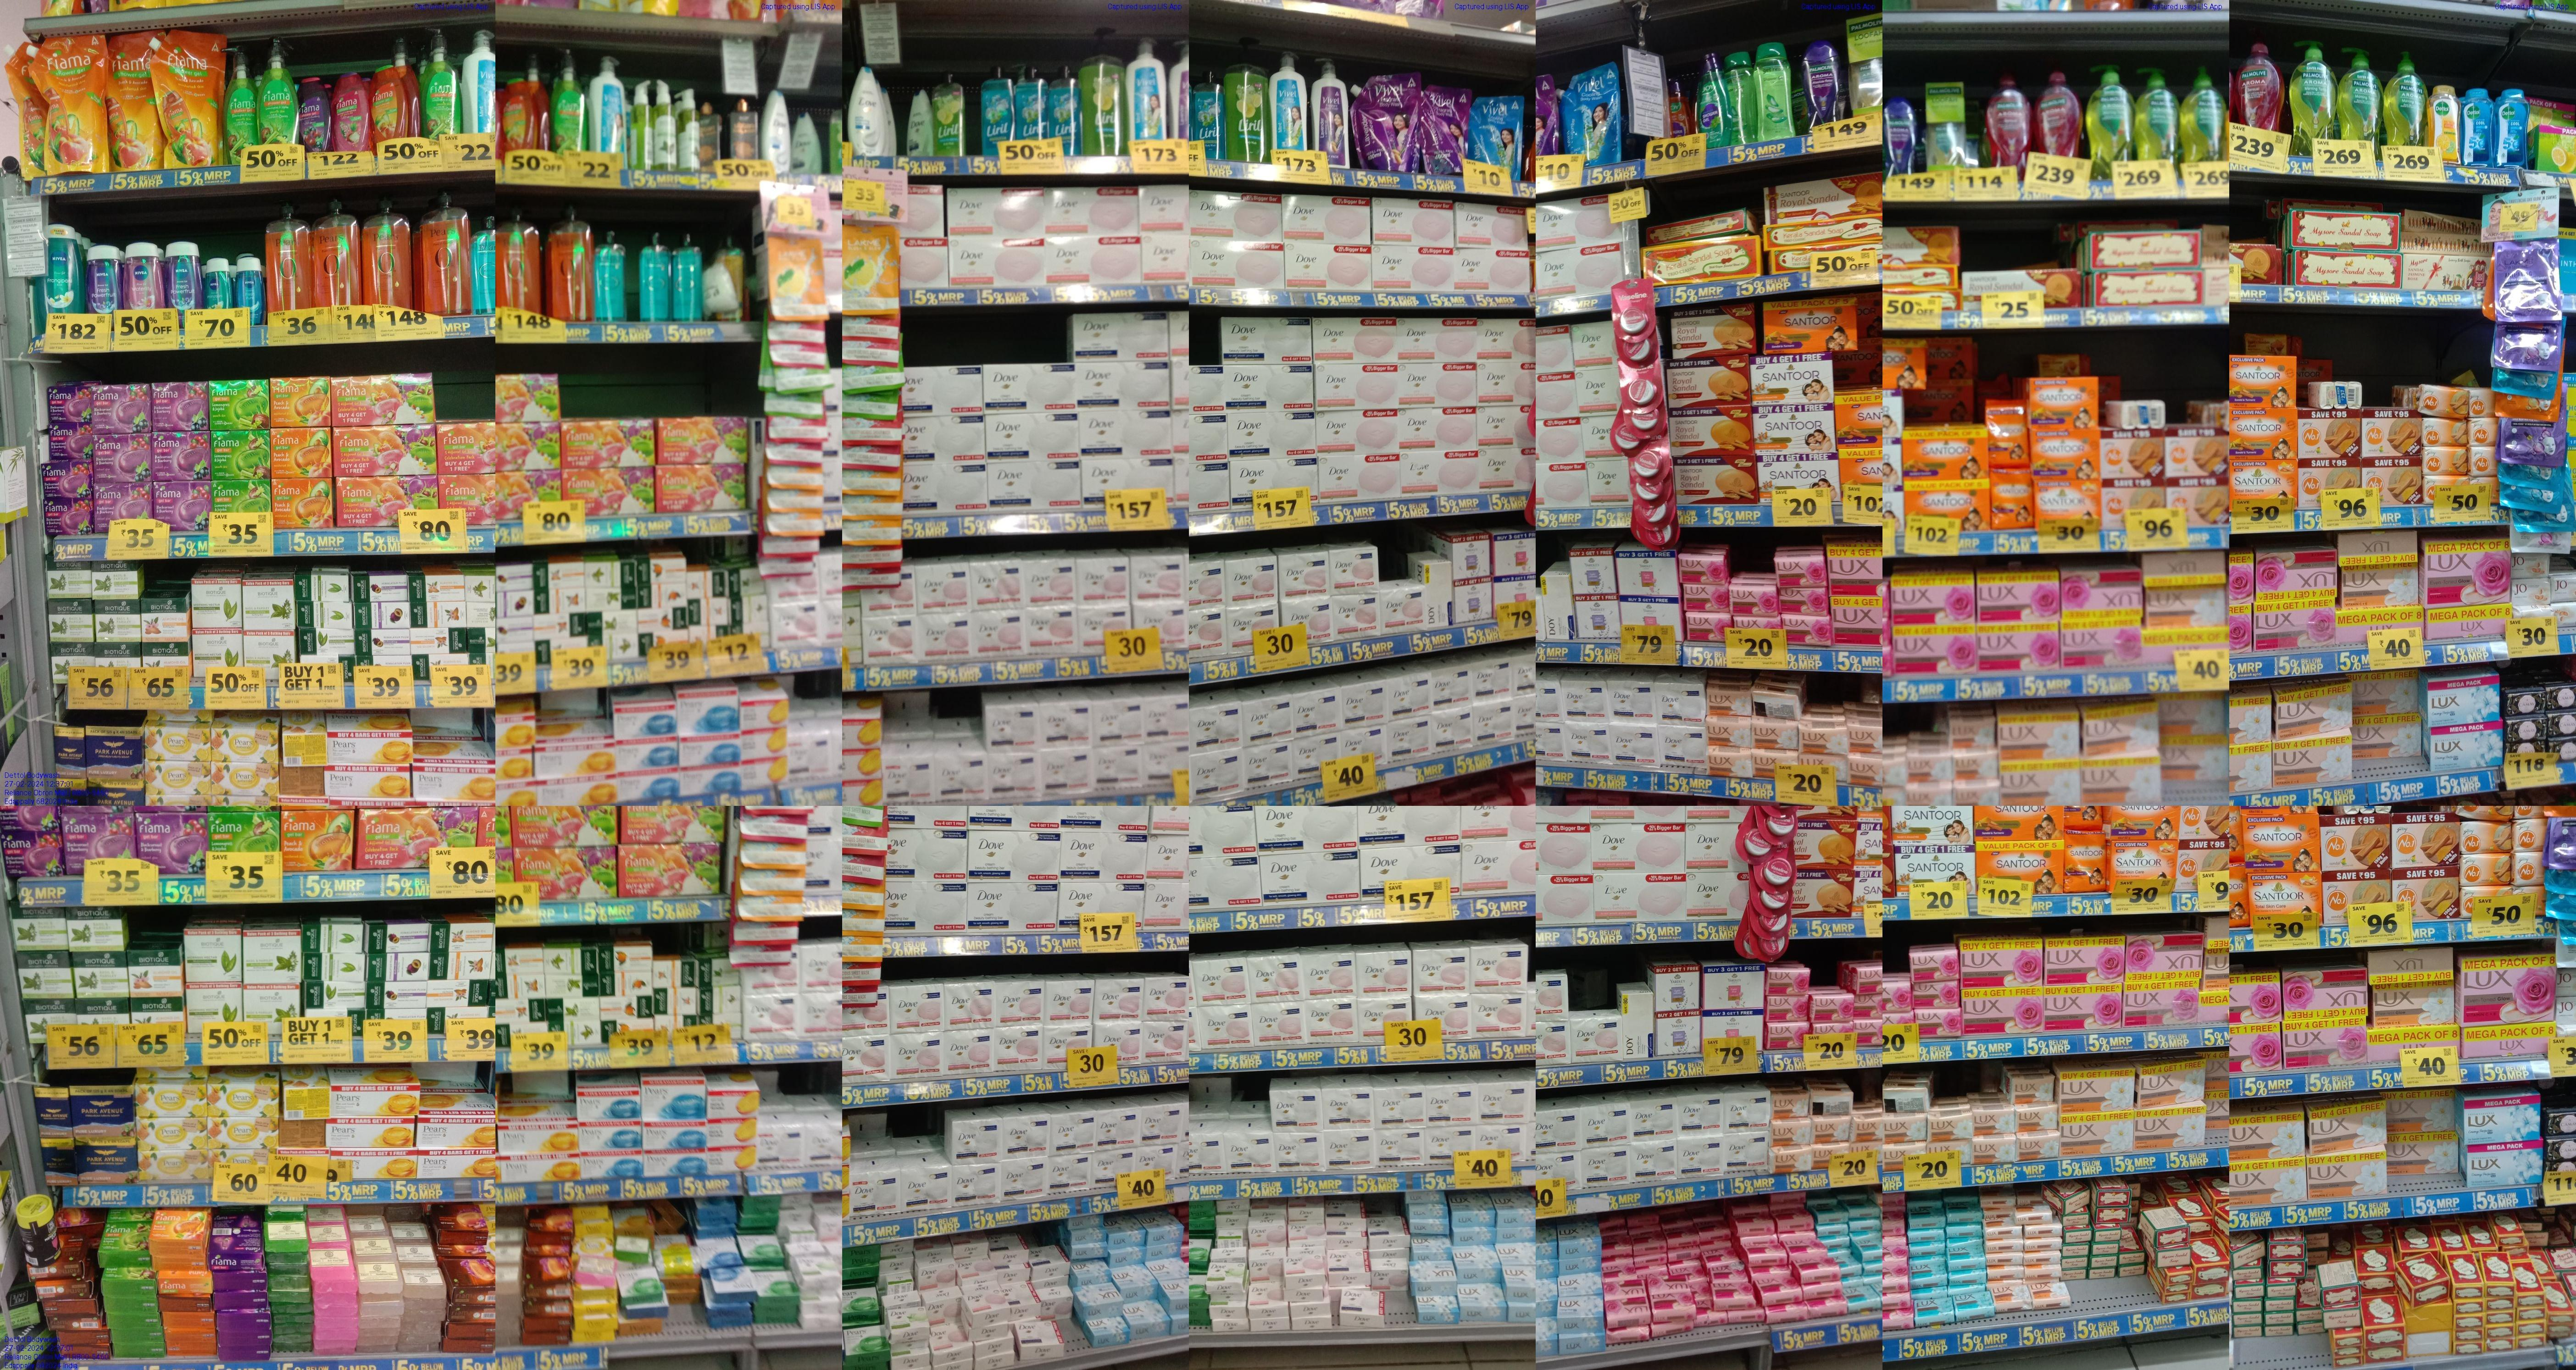Dettol_Bodywash_Cool: (2494, 87, 2530, 169), (2464, 85, 2493, 169)
Dettol_Bodywash_Refresh: (2429, 82, 2458, 164)
Dove_Deep_Moisture_Body_Wash_250ML: (792, 109, 823, 174), (905, 90, 934, 157)
Dove_Gentle_Exfoliating_Body_Wash_250ML: (847, 66, 886, 155), (765, 89, 789, 172)
Fiama_Shower_Gel_Patchouli_and_Macadamia_250ML: (331, 72, 365, 155)
Fiama_Shower_Gel_Peach_and_Avocado_250ML: (370, 65, 405, 152), (499, 75, 532, 153)
Joy_Shower_Gel_Mint_and_Eucalyptus_250ML: (1697, 53, 1728, 150)
Liril_Cooling_Mint_Body_Wash_250ML: (1193, 70, 1225, 160), (980, 65, 1010, 157), (1048, 66, 1078, 157), (1015, 65, 1046, 140)
Liril_Lime_and_Tea_Tree_Oil_Body_Wash_250ML: (937, 72, 964, 155)
Nivea_Shower_Gel_Frangipani_and_Oil_250ML: (36, 225, 85, 329), (204, 259, 233, 310)
Nivea_Shower_Gel_Fresh_Powerfruit_250ML: (165, 240, 203, 315), (87, 244, 119, 314)
Nivea_Shower_Gel_Waterlily_and_Oil_250ML: (123, 240, 162, 312)
Palmolive_Aroma_Relax_250ML: (1803, 39, 1842, 128), (1884, 95, 1917, 177)
Pears_Pure_Glycerin_and_Mint_Extracts_Body_Wash_250ML: (596, 230, 627, 324), (673, 230, 702, 324), (472, 215, 496, 315), (644, 233, 670, 322)
